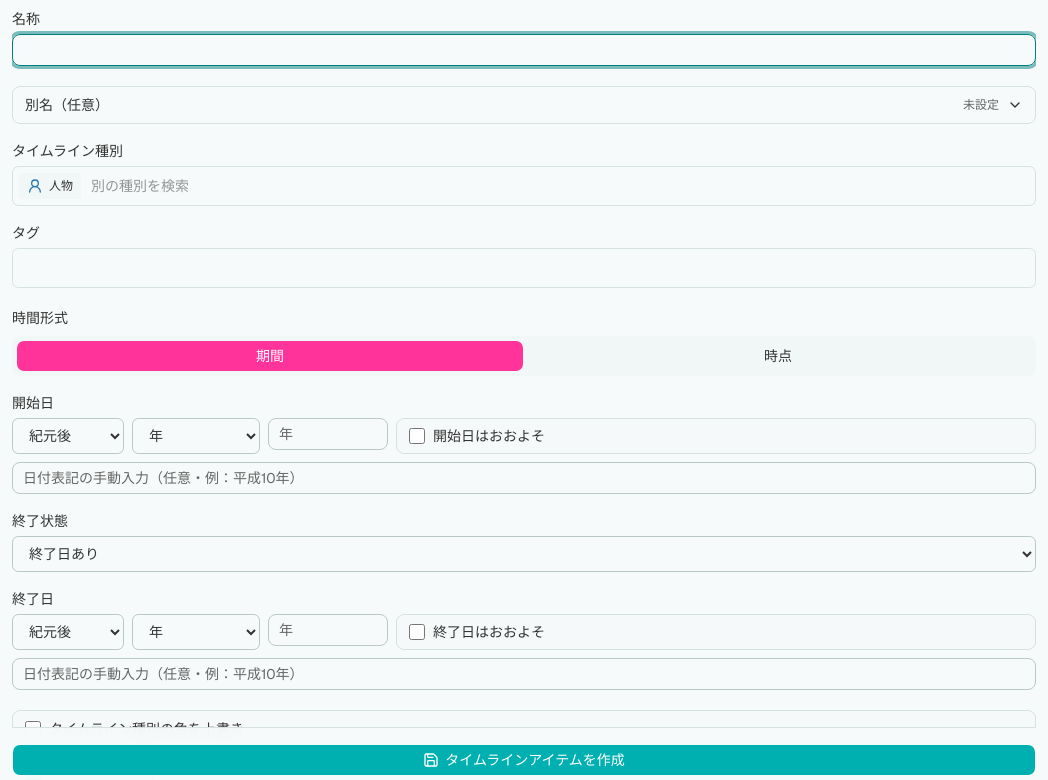
Test: TimelineItemForm › keeps aliases collapsed until the optional section is opened
This screenshot has width=1048, height=780.
Click the text "別名（任意）" at (67, 105), box x1=25 y1=95 x2=109 y2=115
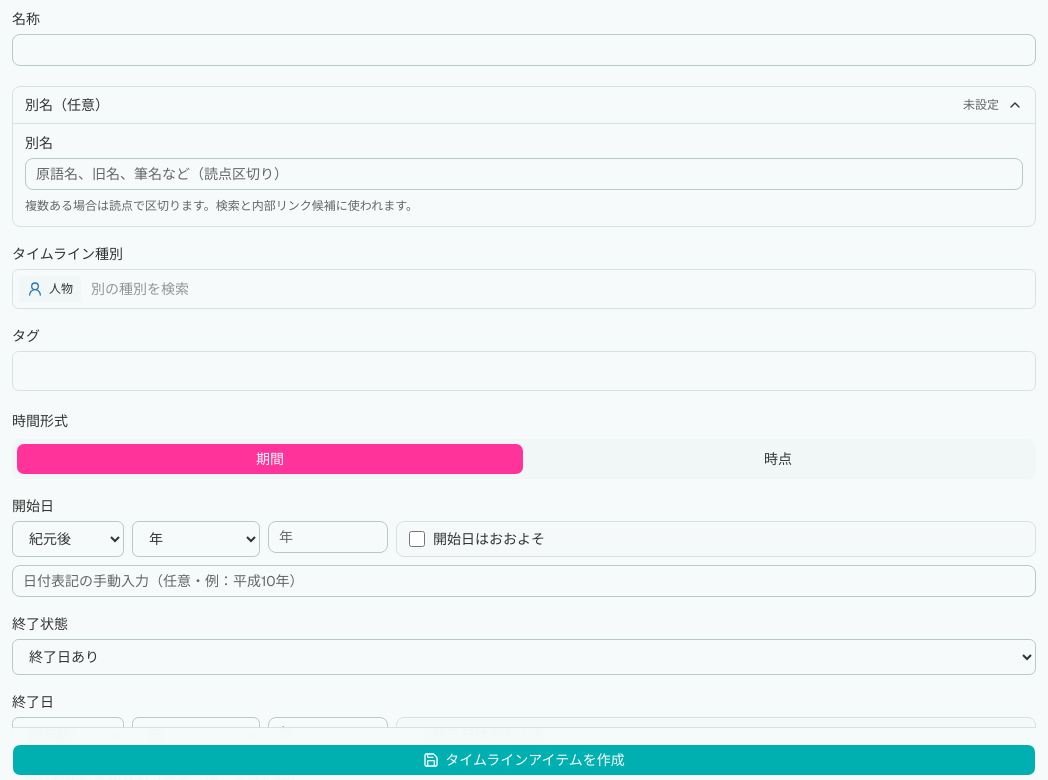
Now the field labelled "別名" is shown, box x1=25 y1=158 x2=1023 y2=190
